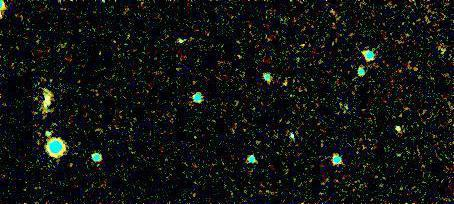star: (272, 65, 302, 95)
